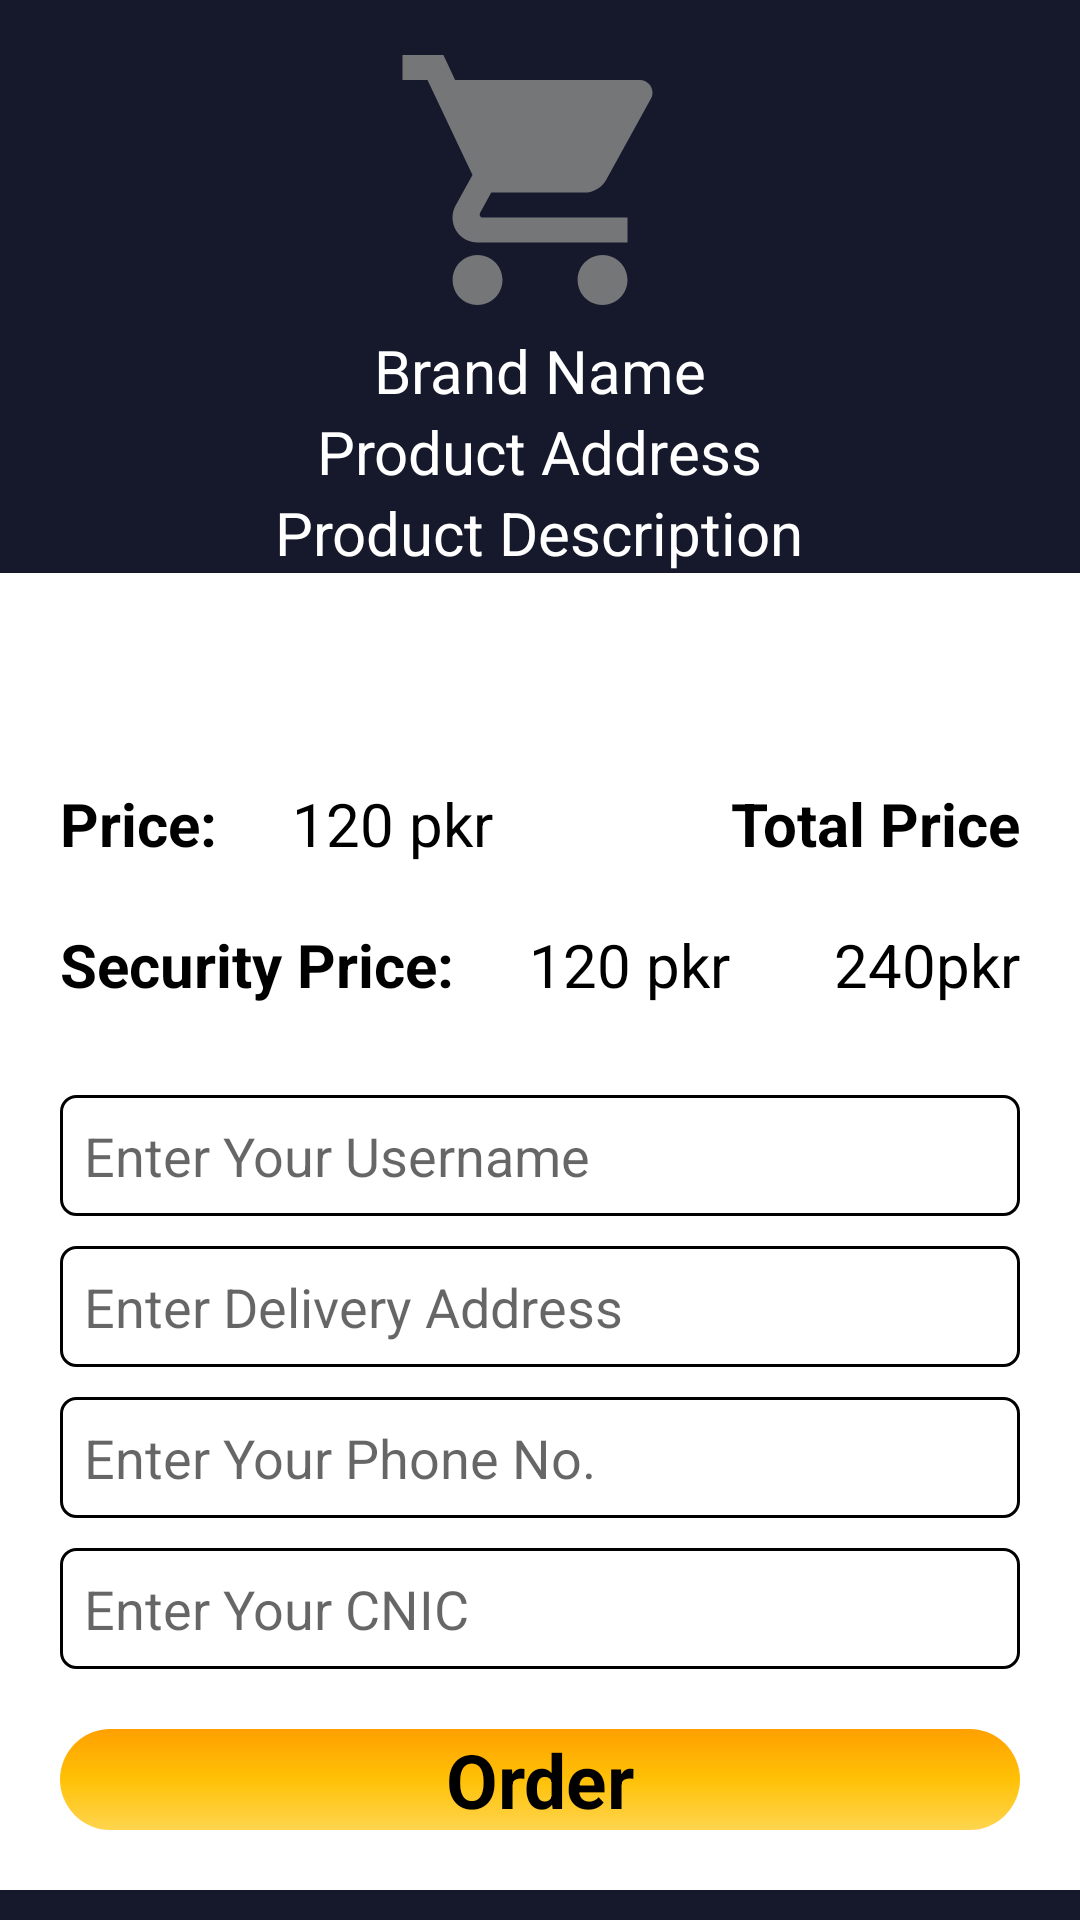

Where to tap for icons on this 1080*1920 app screen, as [x,y]:
shopping cart: [527,180]
